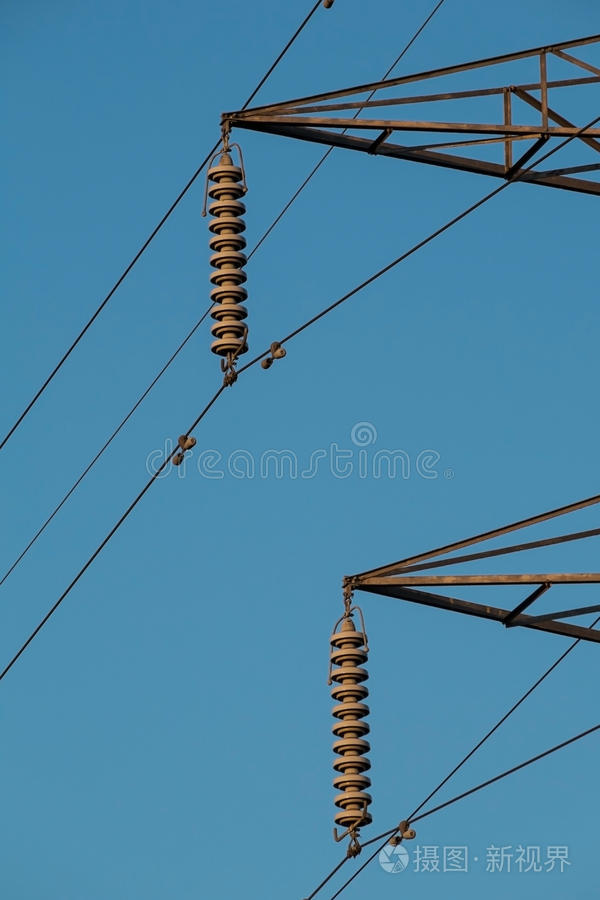insulator: (205, 160, 252, 358), (324, 631, 371, 822)
